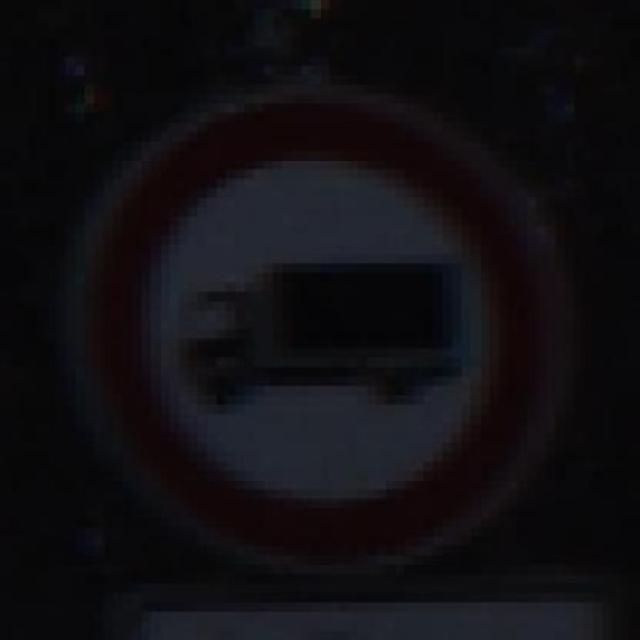Truck traffic is prohibited: (61, 58, 588, 577)
